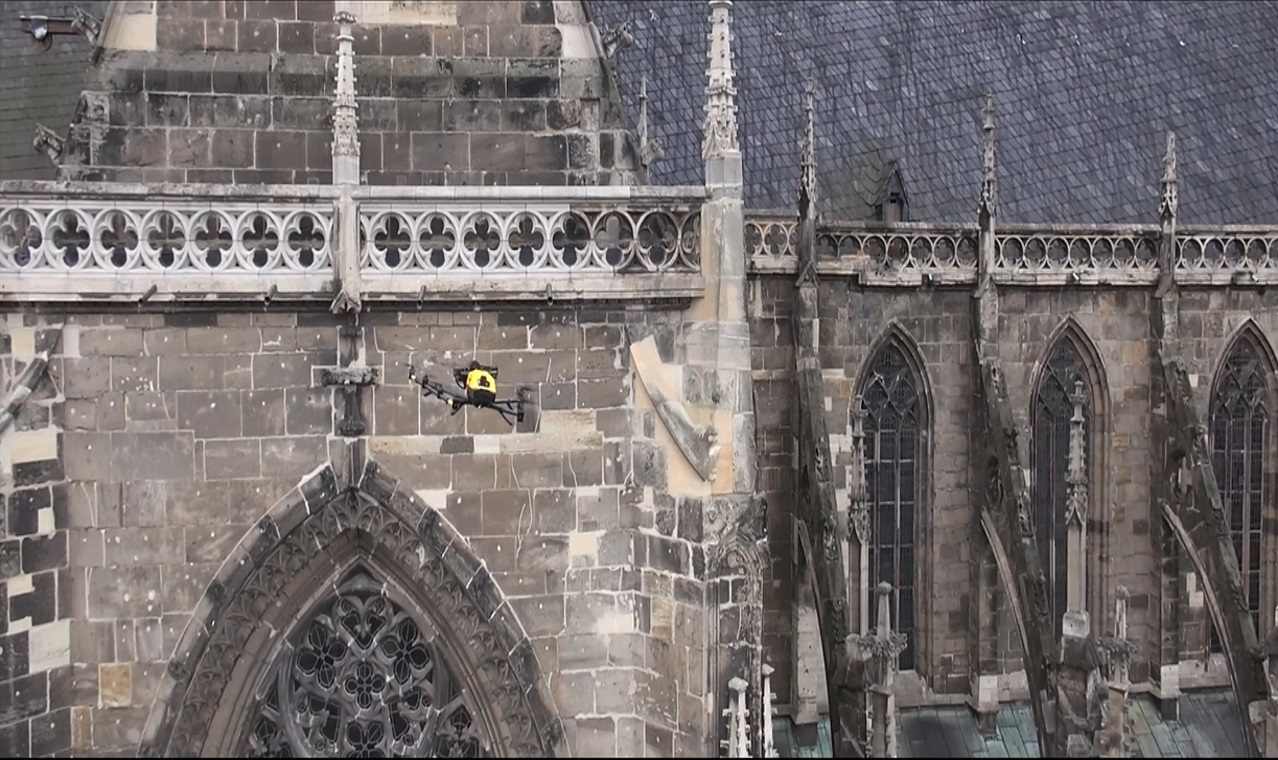drone: (396, 356, 548, 434)
